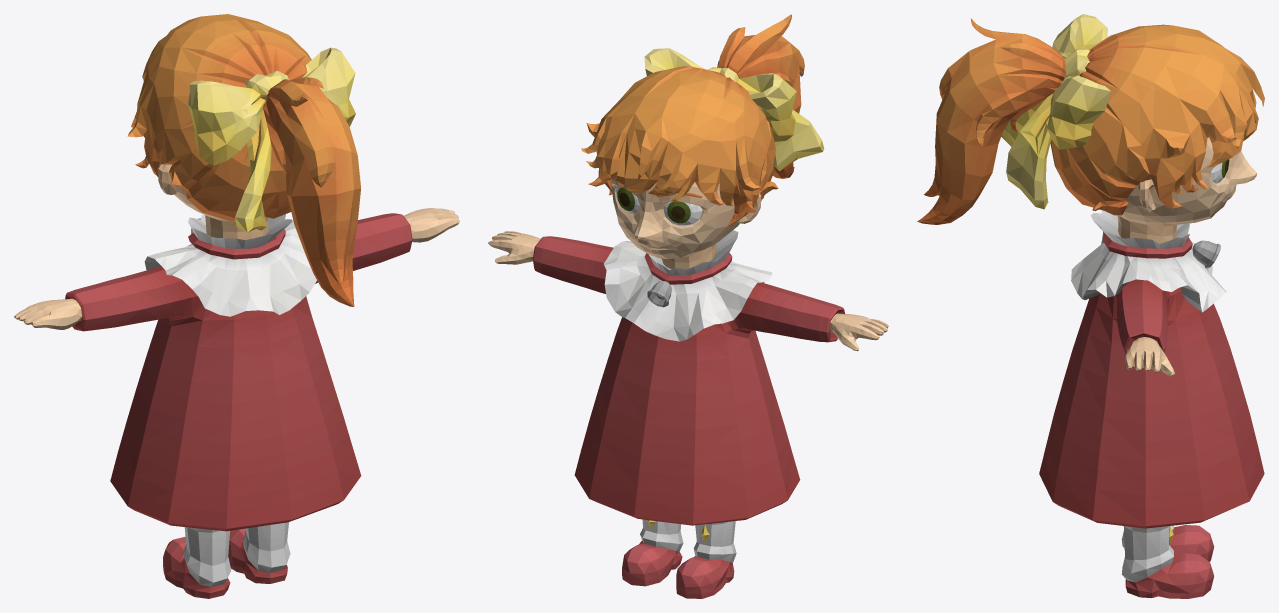
Rendered from NPC_AP24BellFull.glb.
3 views of the same model, side by side, from view 1: azimuth 30°, elevation 25°; view 2: azimuth 150°, elevation 25°; view 3: azimuth 270°, elevation 25° (orthographic). The views are drawn at different scales.
Parts seen in each view (by area): view 1: NPC_AP24BellFull; view 2: NPC_AP24BellFull; view 3: NPC_AP24BellFull.
Boxes of the visible parts, left/top/right/bottom form: NPC_AP24BellFull: left=14, top=14, right=459, bottom=598; NPC_AP24BellFull: left=488, top=14, right=888, bottom=598; NPC_AP24BellFull: left=917, top=14, right=1264, bottom=598.
Bounding box in the file's own units: 11.14 × 13.65 × 7.89.
Materials: 1 (1 with a texture image).
